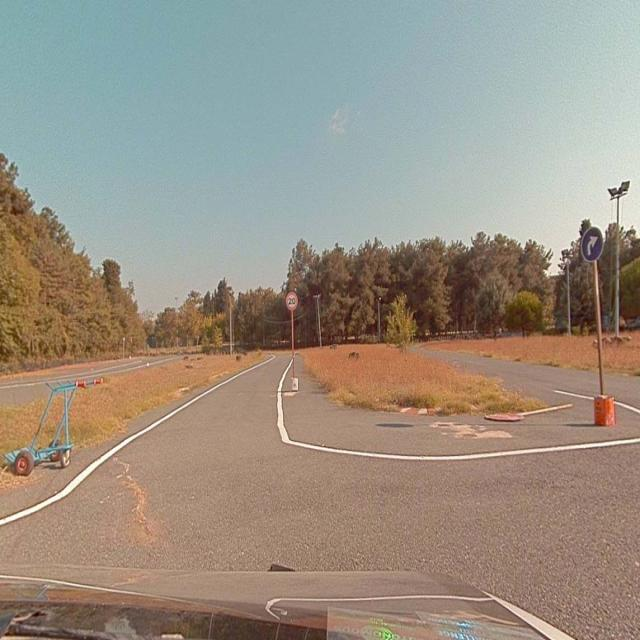20: (285, 290, 298, 310)
sag: (581, 229, 604, 262)
